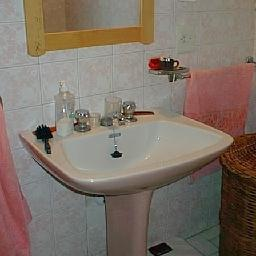Lavamanos: (19, 109, 233, 193)
